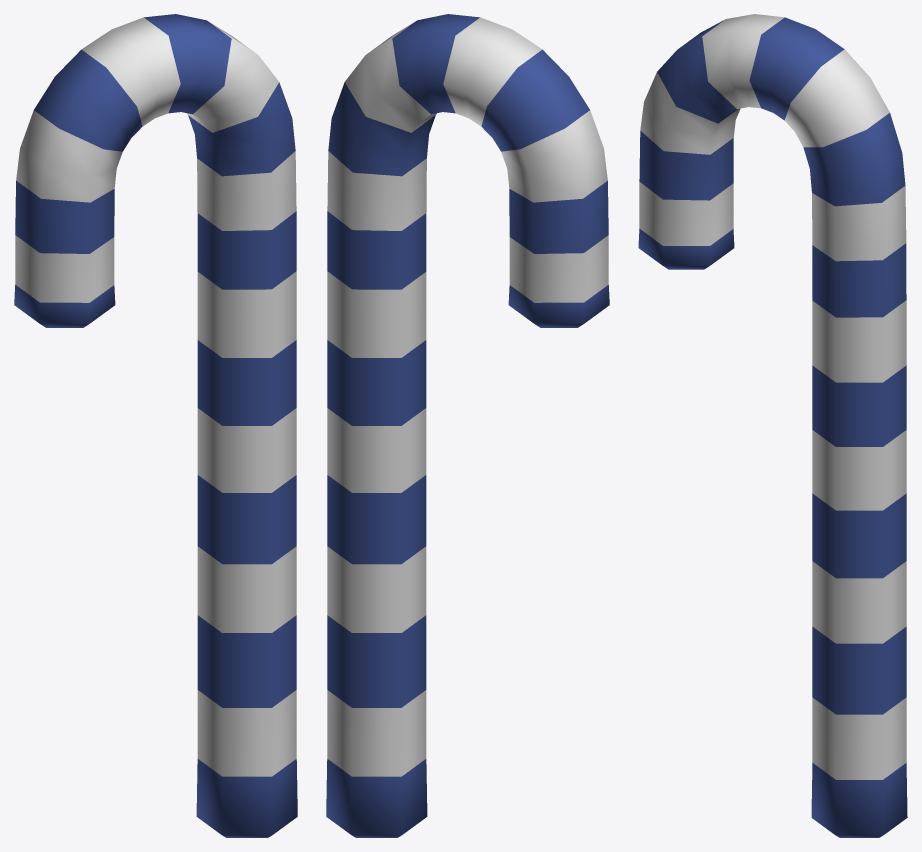
Rendered from CandyCane_01.fbx.
3 renders of one model, left to right at view 1: azimuth 30°, elevation 25°; view 2: azimuth 150°, elevation 25°; view 3: azimuth 330°, elevation 25°, orthographic. The views are drawn at different scales.
Parts seen in each view (by area): view 1: CandyCane_01; view 2: CandyCane_01; view 3: CandyCane_01.
Boxes of the visible parts, bbox=[...] form: CandyCane_01: bbox=[14, 14, 297, 837]; CandyCane_01: bbox=[326, 14, 609, 837]; CandyCane_01: bbox=[638, 14, 907, 837].
Size of the model in its own units: 0.0865 by 0.262 by 0.0294.
